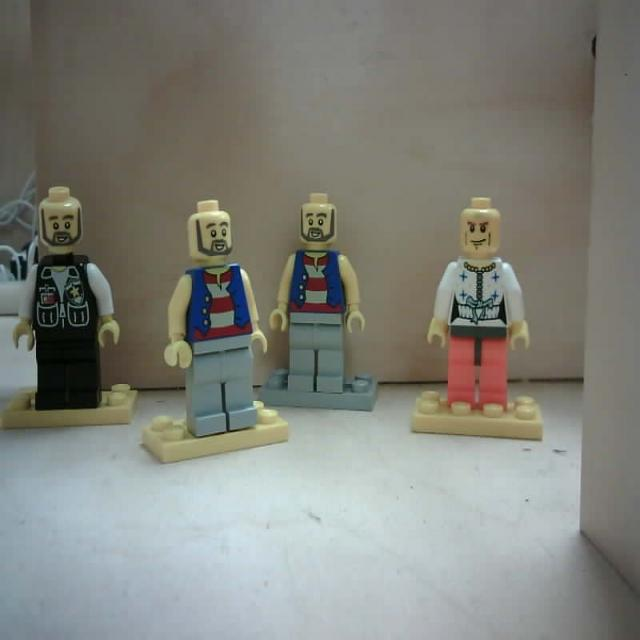Lego-People: (163, 188, 267, 442), (9, 182, 121, 415), (427, 190, 532, 433), (270, 185, 371, 404)
